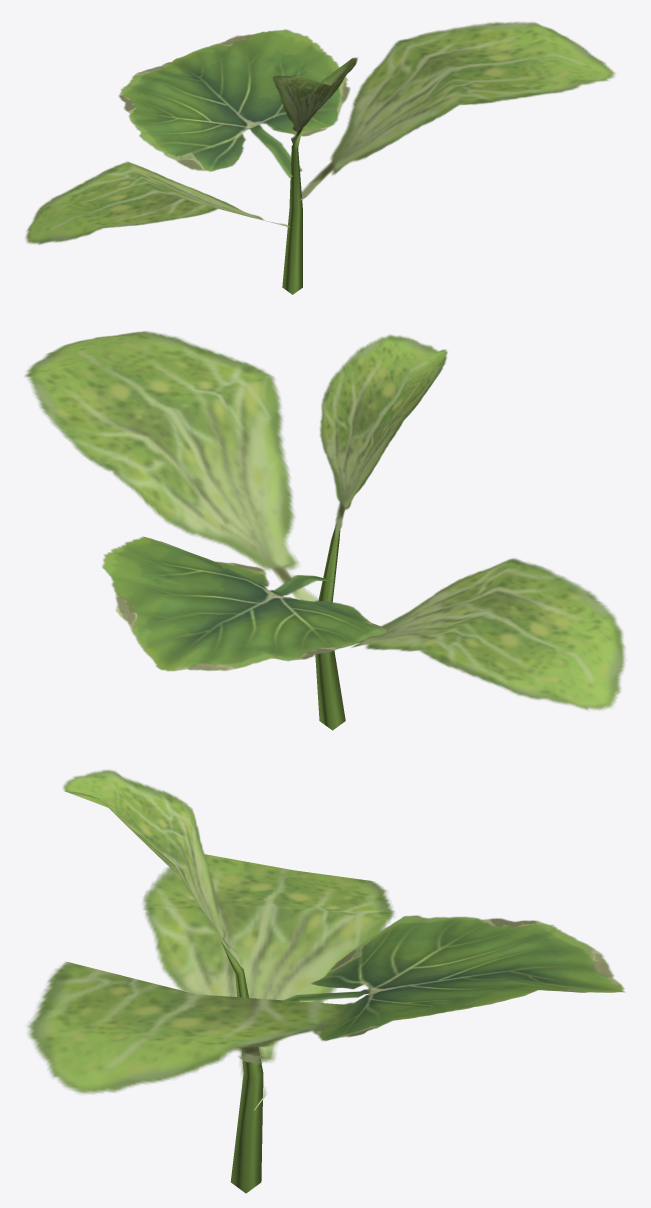
Rendered from plant_pumpkin_S1.gltf.
The picture shows the model from 3 angles, top to bottom: view 1: azimuth 30°, elevation 25°; view 2: azimuth 150°, elevation 25°; view 3: azimuth 270°, elevation 25°; orthographic projection. The views are drawn at different scales.
Parts seen in each view (by area): view 1: plant_pumpkin_S1; view 2: plant_pumpkin_S1; view 3: plant_pumpkin_S1.
Boxes of the visible parts, bbox=[...] form: plant_pumpkin_S1: bbox=[25, 21, 615, 294]; plant_pumpkin_S1: bbox=[24, 331, 625, 730]; plant_pumpkin_S1: bbox=[27, 769, 624, 1193].
Size of the model in its own units: 0.3589 by 0.1709 by 0.2374.
1 material, 1 textured.
